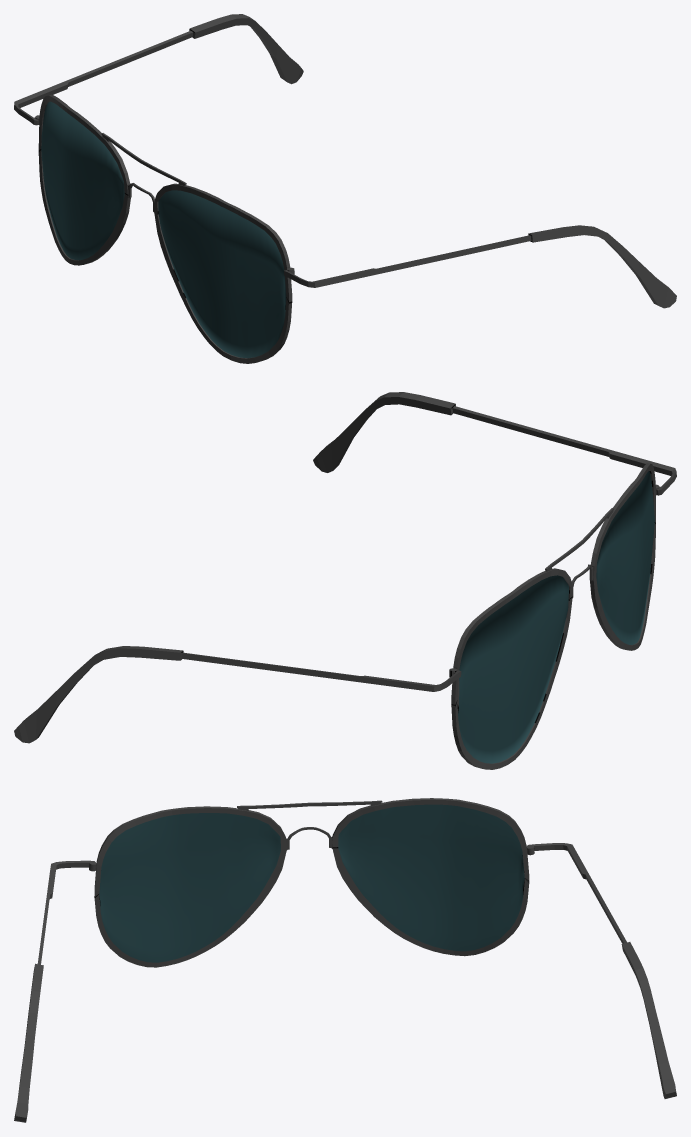
The model's file is round_glasses.gltf.
The picture shows the model from 3 angles, top to bottom: view 1: azimuth 30°, elevation 25°; view 2: azimuth 150°, elevation 25°; view 3: azimuth 270°, elevation 25°; orthographic projection. The views are drawn at different scales.
Parts seen in each view (by area): view 1: Aviators_Plastic.001_0; view 2: Aviators_Plastic.001_0; view 3: Aviators_Plastic.001_0.
Boxes of the visible parts, x1,y1,x2,y2 form: Aviators_Plastic.001_0: (14, 14, 676, 363); Aviators_Plastic.001_0: (14, 392, 676, 769); Aviators_Plastic.001_0: (14, 798, 676, 1122).
Size of the model in its own units: 0.2924 by 0.1094 by 0.4241.
Materials: 1 (1 with a texture image).
